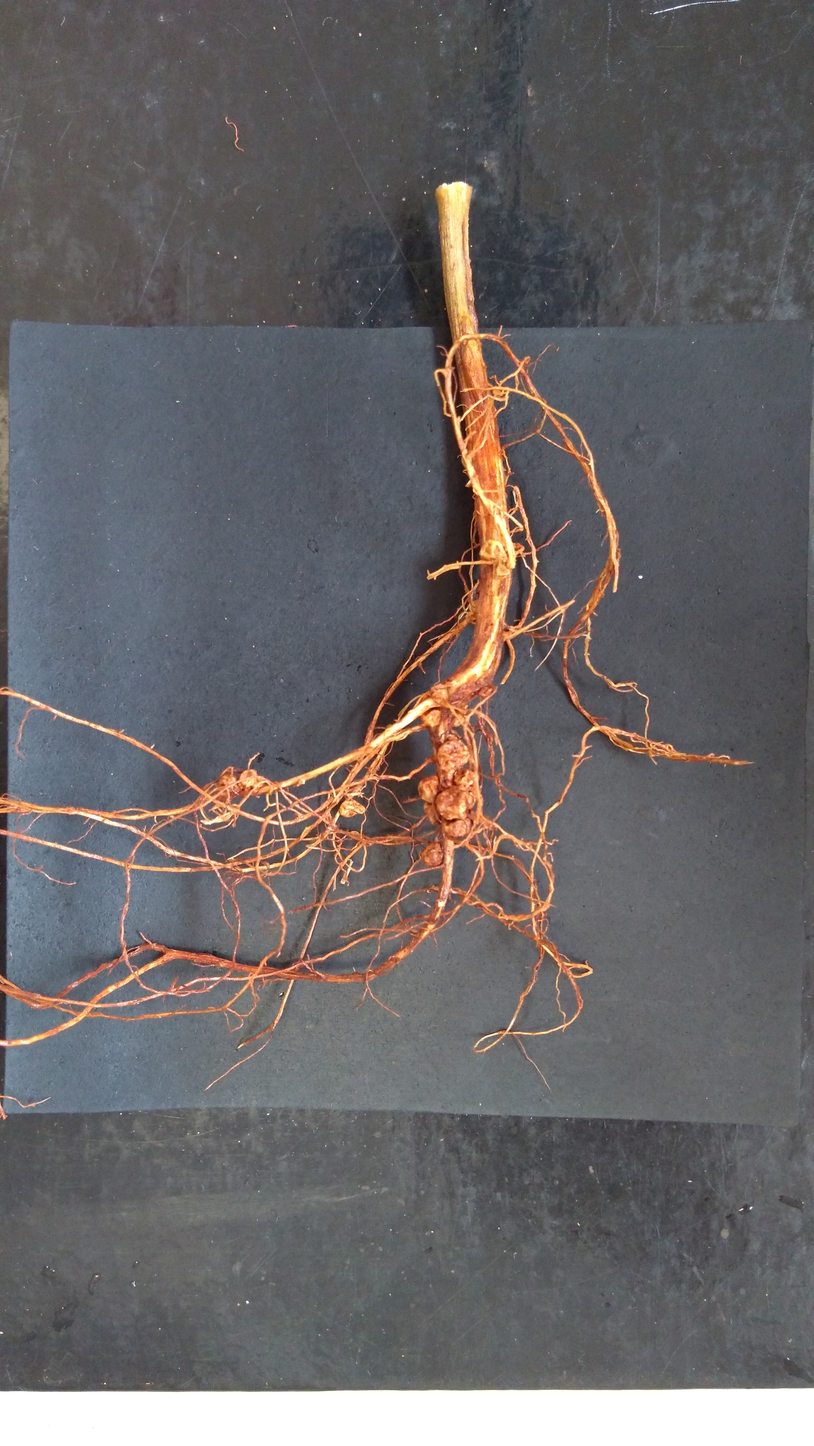nodule: (433, 786, 478, 821), (434, 737, 471, 770), (452, 767, 481, 801), (476, 537, 509, 563), (439, 818, 475, 840), (418, 840, 445, 869), (416, 773, 439, 805), (337, 797, 367, 819), (420, 801, 441, 829), (419, 708, 444, 728), (218, 773, 236, 795), (432, 683, 450, 701), (493, 563, 512, 580), (240, 769, 257, 787), (449, 712, 466, 728)
